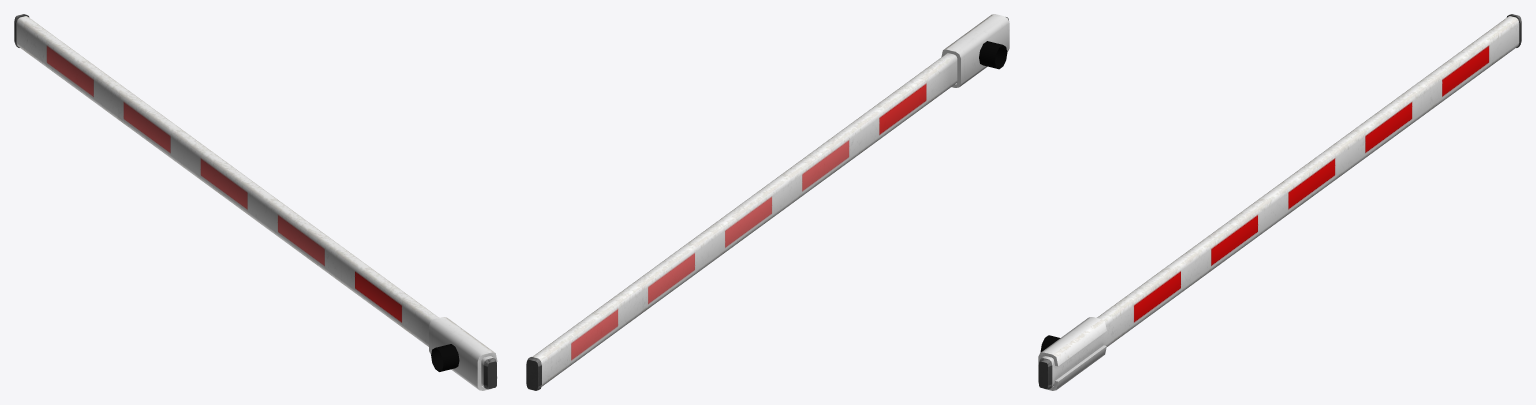
Rendered from barrera.glb.
The picture shows the model from 3 angles, left to right: view 1: azimuth 30°, elevation 25°; view 2: azimuth 150°, elevation 25°; view 3: azimuth 330°, elevation 25°; orthographic projection.
Visible parts, largest first — view 1: gate1_movable; view 2: gate1_movable; view 3: gate1_movable.
Part boxes in pixels (bbox=[...]): gate1_movable: bbox=[14, 14, 497, 390]; gate1_movable: bbox=[526, 14, 1009, 390]; gate1_movable: bbox=[1038, 14, 1521, 390].
Size of the model in its own units: 0.1407 by 0.1359 by 3.21.
1 material, 1 textured.
